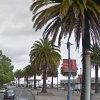Palm tree: (31, 1, 94, 100)
